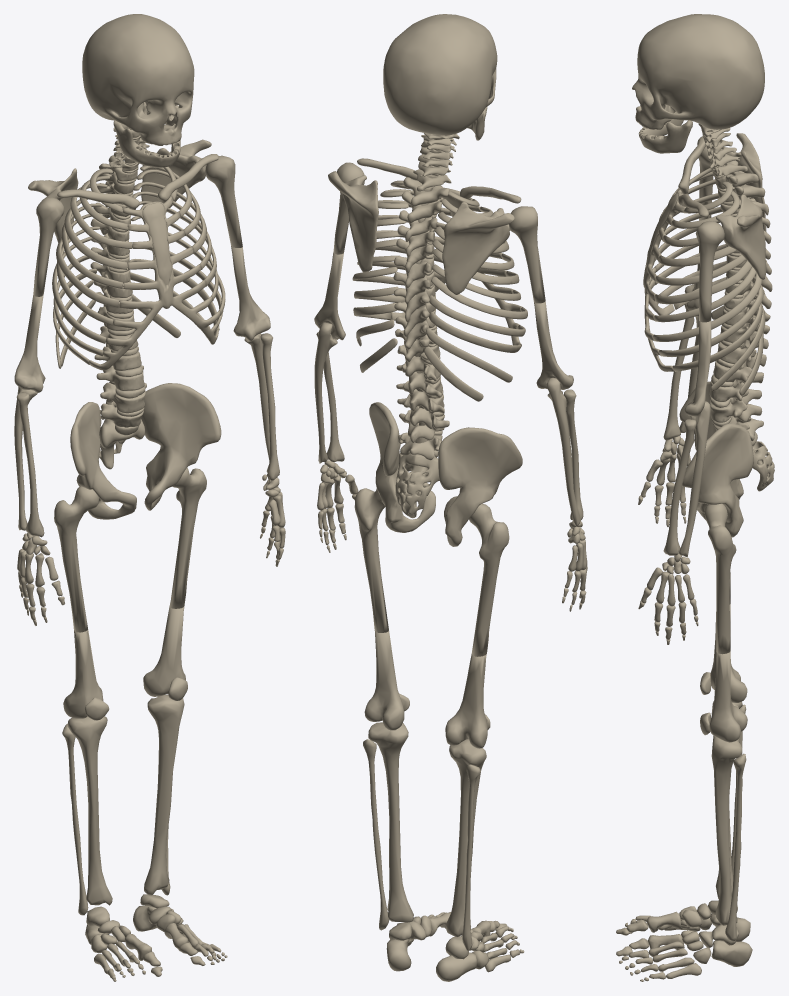
File: pediatric_child_10y_female.skeletal.LOD0.glb
3 views of the same model, side by side, from view 1: azimuth 30°, elevation 25°; view 2: azimuth 150°, elevation 25°; view 3: azimuth 270°, elevation 25° (orthographic).
Visible parts, largest first — view 1: PEDIATRIC.CHILD_10Y.FEMALE.SKELETAL.CRANIUM_CORTICAL, PEDIATRIC.CHILD_10Y.FEMALE.SKELETAL.RIBS_CORTICAL, PEDIATRIC.CHILD_10Y.FEMALE.SKELETAL.PELVIS_CORTICAL, PEDIATRIC.CHILD_10Y.FEMALE.SKELETAL.TIBIAE_CORTICAL, PEDIATRIC.CHILD_10Y.FEMALE.SKELETAL.CARTILAGE_TRUNK, PEDIATRIC.CHILD_10Y.FEMALE.SKELETAL.ANKLES_AND_FOOT_CORTICAL, PEDIATRIC.CHILD_10Y.FEMALE.SKELETAL.FEMORA_UPPER_CORTICAL, PEDIATRIC.CHILD_10Y.FEMALE.SKELETAL.FEMORA_LOWER_CORTICAL, PEDIATRIC.CHILD_10Y.FEMALE.SKELETAL.WRISTS_AND_HAND_BONES_CO, PEDIATRIC.CHILD_10Y.FEMALE.SKELETAL.HUMERI_LOWER_CORTICAL, PEDIATRIC.CHILD_10Y.FEMALE.SKELETAL.THORACIC_SPINE_CORTICAL, PEDIATRIC.CHILD_10Y.FEMALE.SKELETAL.HUMERI_UPPER_CORTICAL (+11 smaller); view 2: PEDIATRIC.CHILD_10Y.FEMALE.SKELETAL.CRANIUM_CORTICAL, PEDIATRIC.CHILD_10Y.FEMALE.SKELETAL.RIBS_CORTICAL, PEDIATRIC.CHILD_10Y.FEMALE.SKELETAL.PELVIS_CORTICAL, PEDIATRIC.CHILD_10Y.FEMALE.SKELETAL.SCAPULAE_CORTICAL, PEDIATRIC.CHILD_10Y.FEMALE.SKELETAL.THORACIC_SPINE_CORTICAL, PEDIATRIC.CHILD_10Y.FEMALE.SKELETAL.TIBIAE_CORTICAL, PEDIATRIC.CHILD_10Y.FEMALE.SKELETAL.FEMORA_UPPER_CORTICAL, PEDIATRIC.CHILD_10Y.FEMALE.SKELETAL.ANKLES_AND_FOOT_CORTICAL, PEDIATRIC.CHILD_10Y.FEMALE.SKELETAL.FEMORA_LOWER_CORTICAL, PEDIATRIC.CHILD_10Y.FEMALE.SKELETAL.LUMBAR_SPINE_CORTICAL, PEDIATRIC.CHILD_10Y.FEMALE.SKELETAL.WRISTS_AND_HAND_BONES_CO, PEDIATRIC.CHILD_10Y.FEMALE.SKELETAL.ULNAE_CORTICAL (+8 smaller); view 3: PEDIATRIC.CHILD_10Y.FEMALE.SKELETAL.CRANIUM_CORTICAL, PEDIATRIC.CHILD_10Y.FEMALE.SKELETAL.RIBS_CORTICAL, PEDIATRIC.CHILD_10Y.FEMALE.SKELETAL.ANKLES_AND_FOOT_CORTICAL, PEDIATRIC.CHILD_10Y.FEMALE.SKELETAL.PELVIS_CORTICAL, PEDIATRIC.CHILD_10Y.FEMALE.SKELETAL.WRISTS_AND_HAND_BONES_CO, PEDIATRIC.CHILD_10Y.FEMALE.SKELETAL.TIBIAE_CORTICAL, PEDIATRIC.CHILD_10Y.FEMALE.SKELETAL.SCAPULAE_CORTICAL, PEDIATRIC.CHILD_10Y.FEMALE.SKELETAL.THORACIC_SPINE_CORTICAL, PEDIATRIC.CHILD_10Y.FEMALE.SKELETAL.LUMBAR_SPINE_CORTICAL, PEDIATRIC.CHILD_10Y.FEMALE.SKELETAL.FEMORA_LOWER_CORTICAL, PEDIATRIC.CHILD_10Y.FEMALE.SKELETAL.FEMORA_UPPER_CORTICAL, PEDIATRIC.CHILD_10Y.FEMALE.SKELETAL.CARTILAGE_TRUNK (+11 smaller).
Part boxes in pixels (x1,y1,x2,y2): PEDIATRIC.CHILD_10Y.FEMALE.SKELETAL.CRANIUM_CORTICAL: (82,14,194,145); PEDIATRIC.CHILD_10Y.FEMALE.SKELETAL.RIBS_CORTICAL: (52,165,225,368); PEDIATRIC.CHILD_10Y.FEMALE.SKELETAL.PELVIS_CORTICAL: (70,383,221,519); PEDIATRIC.CHILD_10Y.FEMALE.SKELETAL.TIBIAE_CORTICAL: (67,694,184,905); PEDIATRIC.CHILD_10Y.FEMALE.SKELETAL.CARTILAGE_TRUNK: (89,136,220,435); PEDIATRIC.CHILD_10Y.FEMALE.SKELETAL.ANKLES_AND_FOOT_CORTICAL: (85,894,227,981); PEDIATRIC.CHILD_10Y.FEMALE.SKELETAL.FEMORA_UPPER_CORTICAL: (54,468,206,632); PEDIATRIC.CHILD_10Y.FEMALE.SKELETAL.FEMORA_LOWER_CORTICAL: (63,606,185,718); PEDIATRIC.CHILD_10Y.FEMALE.SKELETAL.WRISTS_AND_HAND_BONES_CO: (17,474,285,625); PEDIATRIC.CHILD_10Y.FEMALE.SKELETAL.HUMERI_LOWER_CORTICAL: (14,246,270,392); PEDIATRIC.CHILD_10Y.FEMALE.SKELETAL.THORACIC_SPINE_CORTICAL: (90,155,138,330); PEDIATRIC.CHILD_10Y.FEMALE.SKELETAL.HUMERI_UPPER_CORTICAL: (33,155,242,296); PEDIATRIC.CHILD_10Y.FEMALE.SKELETAL.CRANIUM_CORTICAL: (383,14,497,135); PEDIATRIC.CHILD_10Y.FEMALE.SKELETAL.RIBS_CORTICAL: (352,180,527,401); PEDIATRIC.CHILD_10Y.FEMALE.SKELETAL.PELVIS_CORTICAL: (369,402,522,546); PEDIATRIC.CHILD_10Y.FEMALE.SKELETAL.SCAPULAE_CORTICAL: (328,171,514,294); PEDIATRIC.CHILD_10Y.FEMALE.SKELETAL.THORACIC_SPINE_CORTICAL: (393,177,449,376); PEDIATRIC.CHILD_10Y.FEMALE.SKELETAL.TIBIAE_CORTICAL: (368,722,486,937); PEDIATRIC.CHILD_10Y.FEMALE.SKELETAL.FEMORA_UPPER_CORTICAL: (354,488,509,656); PEDIATRIC.CHILD_10Y.FEMALE.SKELETAL.ANKLES_AND_FOOT_CORTICAL: (386,912,524,981); PEDIATRIC.CHILD_10Y.FEMALE.SKELETAL.FEMORA_LOWER_CORTICAL: (364,630,487,748); PEDIATRIC.CHILD_10Y.FEMALE.SKELETAL.LUMBAR_SPINE_CORTICAL: (396,362,449,460); PEDIATRIC.CHILD_10Y.FEMALE.SKELETAL.WRISTS_AND_HAND_BONES_CO: (317,460,587,611); PEDIATRIC.CHILD_10Y.FEMALE.SKELETAL.ULNAE_CORTICAL: (314,322,580,526); PEDIATRIC.CHILD_10Y.FEMALE.SKELETAL.CRANIUM_CORTICAL: (632,14,764,129); PEDIATRIC.CHILD_10Y.FEMALE.SKELETAL.RIBS_CORTICAL: (653,165,765,395); PEDIATRIC.CHILD_10Y.FEMALE.SKELETAL.ANKLES_AND_FOOT_CORTICAL: (616,900,752,981); PEDIATRIC.CHILD_10Y.FEMALE.SKELETAL.PELVIS_CORTICAL: (679,381,753,537); PEDIATRIC.CHILD_10Y.FEMALE.SKELETAL.WRISTS_AND_HAND_BONES_CO: (638,436,698,644); PEDIATRIC.CHILD_10Y.FEMALE.SKELETAL.TIBIAE_CORTICAL: (711,700,742,925); PEDIATRIC.CHILD_10Y.FEMALE.SKELETAL.SCAPULAE_CORTICAL: (716,133,766,279); PEDIATRIC.CHILD_10Y.FEMALE.SKELETAL.THORACIC_SPINE_CORTICAL: (715,160,772,348); PEDIATRIC.CHILD_10Y.FEMALE.SKELETAL.LUMBAR_SPINE_CORTICAL: (709,340,766,441); PEDIATRIC.CHILD_10Y.FEMALE.SKELETAL.FEMORA_LOWER_CORTICAL: (709,604,747,742); PEDIATRIC.CHILD_10Y.FEMALE.SKELETAL.FEMORA_UPPER_CORTICAL: (704,503,736,654); PEDIATRIC.CHILD_10Y.FEMALE.SKELETAL.CARTILAGE_TRUNK: (643,136,743,427).
Size of the model in its own units: 0.4006 by 1.38 by 0.2121.
